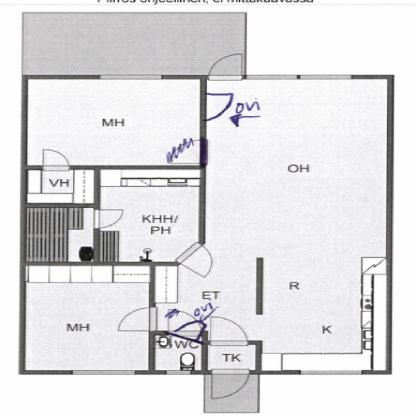door: (171, 242, 223, 283), (206, 312, 251, 348), (111, 308, 162, 335), (205, 52, 247, 84), (210, 370, 252, 402), (166, 307, 202, 339), (41, 148, 74, 172), (92, 210, 129, 230)
window: (72, 369, 135, 376), (247, 73, 298, 81), (296, 73, 354, 80), (96, 74, 160, 80), (300, 370, 362, 375), (165, 368, 192, 376)
zone: (162, 82, 394, 371), (29, 77, 200, 166), (22, 10, 246, 76), (24, 266, 151, 370), (99, 168, 198, 264), (27, 208, 94, 262), (27, 171, 91, 202), (209, 343, 257, 374), (156, 336, 199, 370)
